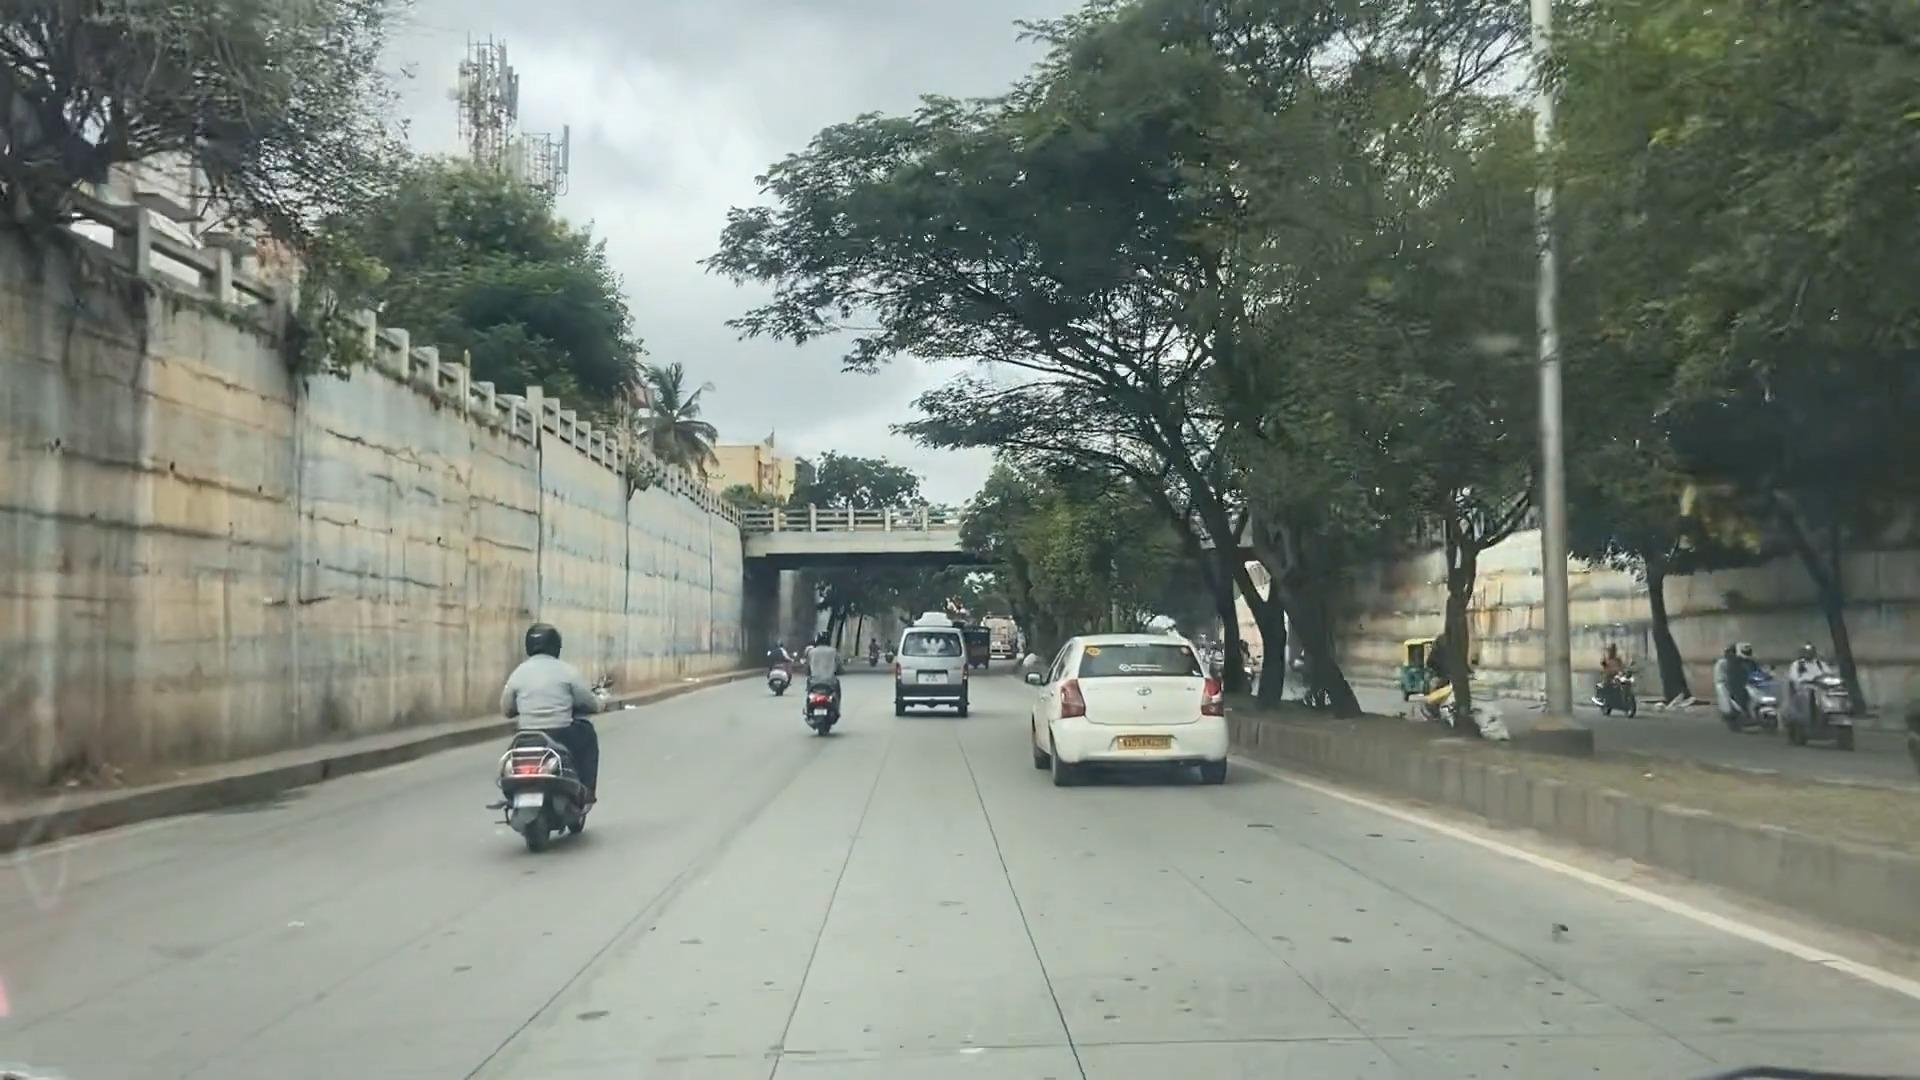LMV: (1018, 618, 1247, 796), (498, 618, 608, 847)
